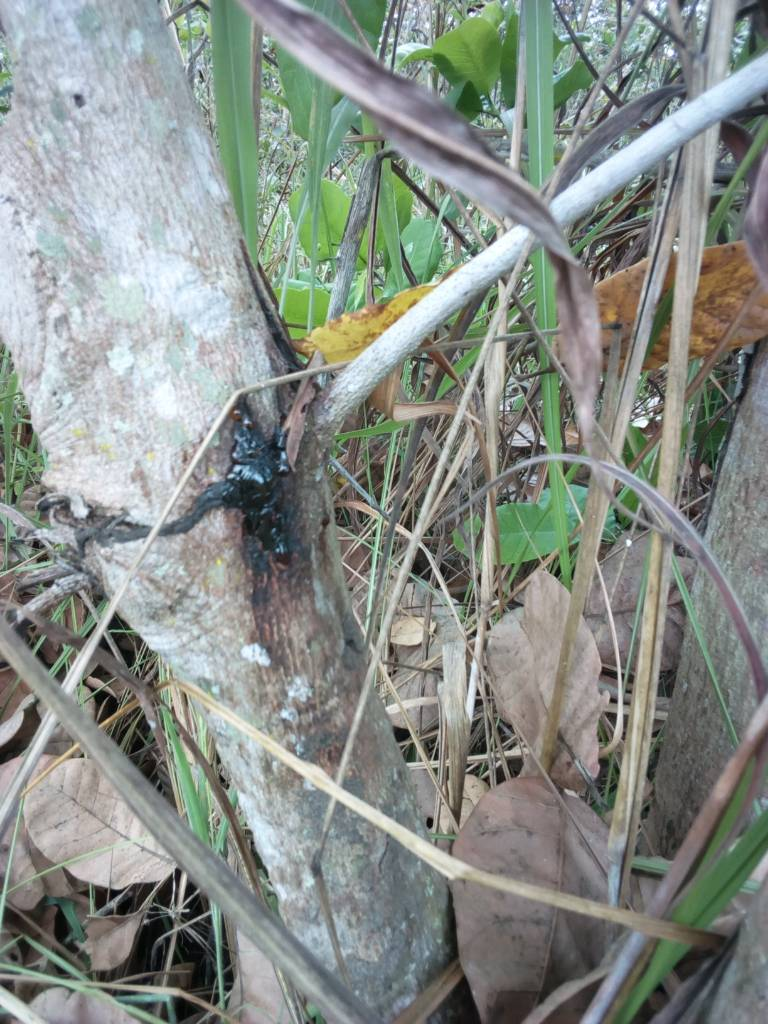Mecocorynus longiceps: (142, 389, 337, 602)
